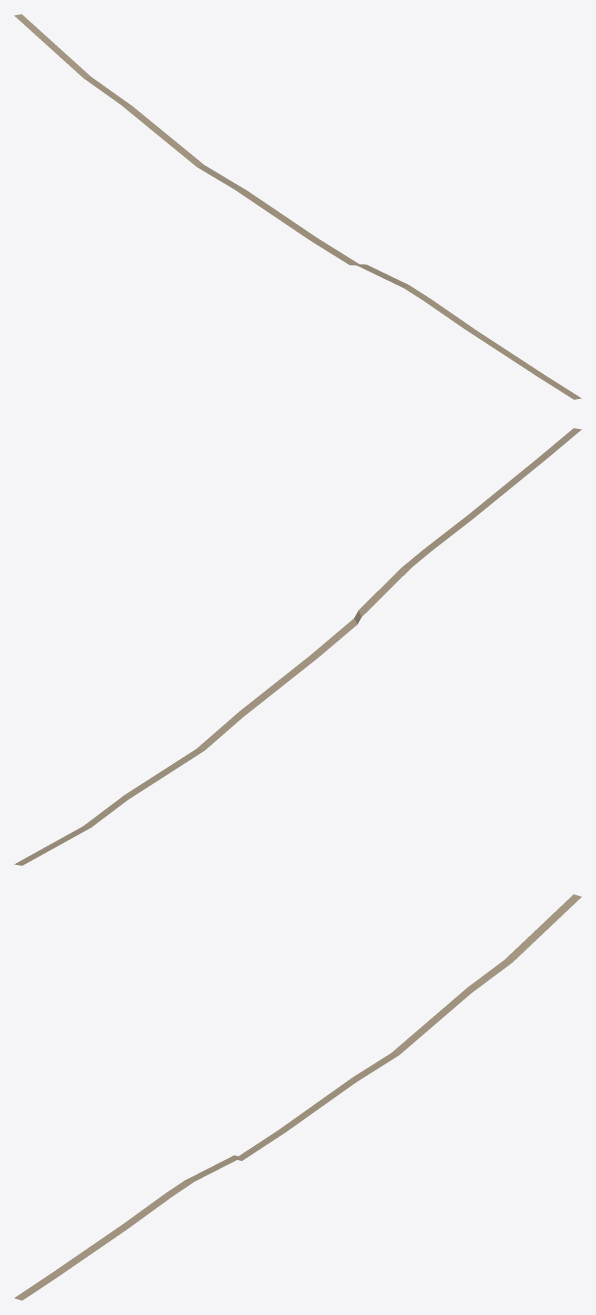
The model's file is farm_0_17_track.glb.
3 renders of one model, top to bottom at view 1: azimuth 30°, elevation 25°; view 2: azimuth 150°, elevation 25°; view 3: azimuth 330°, elevation 25°, orthographic. The views are drawn at different scales.
Visible parts, largest first — view 1: geometry_0; view 2: geometry_0; view 3: geometry_0.
Part boxes in pixels (x1,y1,x2,y2): geometry_0: [14, 14, 581, 399]; geometry_0: [14, 428, 581, 865]; geometry_0: [14, 894, 581, 1300].
Bounding box in the file's own units: 7.55 × 14.55 × 395.
